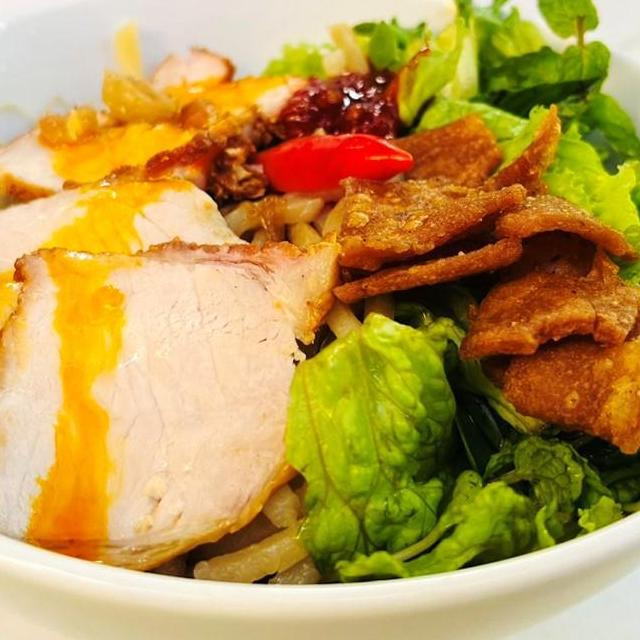banh da: (481, 289, 640, 460), (314, 172, 533, 280), (452, 241, 640, 365), (324, 212, 534, 316), (334, 106, 512, 210), (454, 98, 569, 222), (488, 183, 640, 272)
mi: (183, 481, 336, 600)
mi quang: (0, 49, 640, 640)
thit heo: (0, 173, 317, 580), (0, 227, 348, 548), (0, 70, 331, 216)
